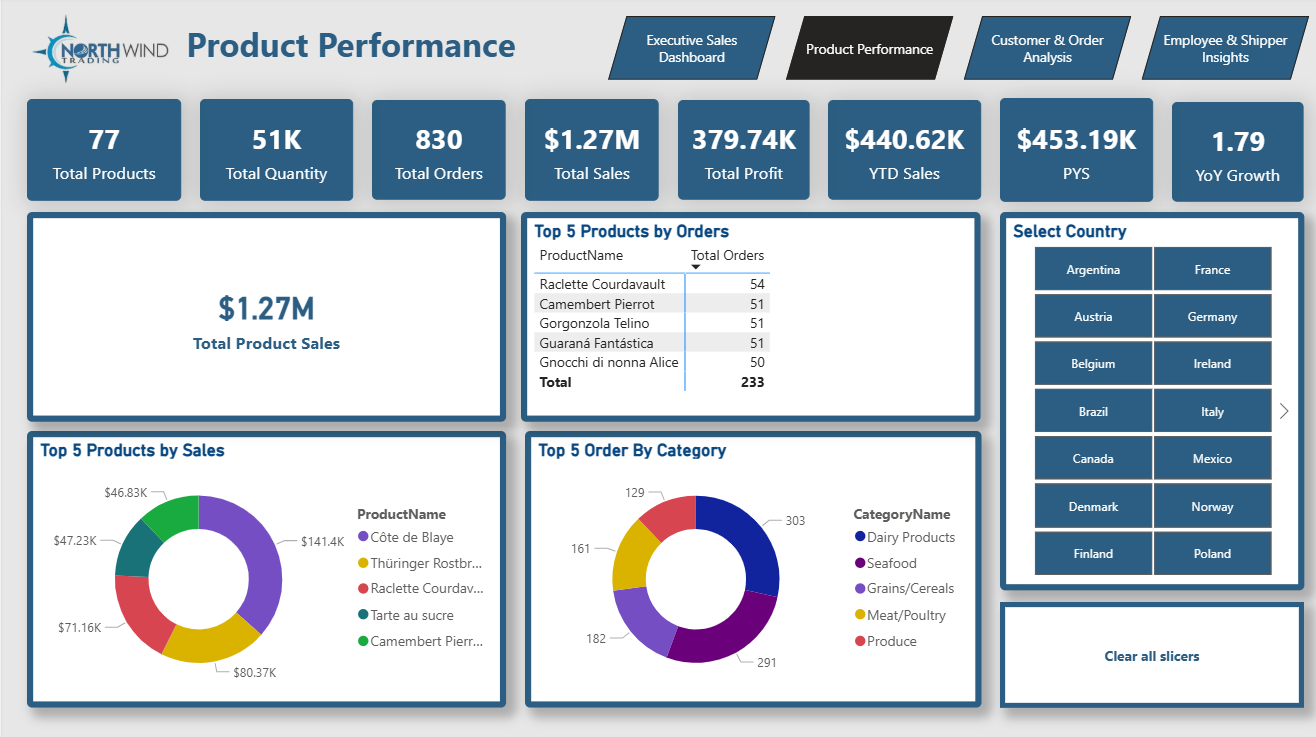

The dashboard page shown, as its layout file describes it:
{"tool":"powerbi","page":{"name":"Product Performance","canvas":[1280,720],"ordinal":1},"visuals":[{"type":"card","fields":{"Values":["Measurestbl.Total Sales"]},"box":[508.6,99.6,130.3,99.2],"z":0},{"type":"textbox","box":[174.1,18.5,404.6,62.2],"z":1000},{"type":"image","box":[14.6,0,173.1,122.6],"z":2000},{"type":"card","fields":{"Values":["Measurestbl.YTD Sales"]},"box":[803.8,100.5,148.8,97.3],"z":3000},{"type":"card","fields":{"Values":["Measurestbl.YoY Growth"]},"box":[1138,102.1,128.4,97.3],"z":4000},{"type":"card","fields":{"Values":["Measurestbl.Total Orders"]},"box":[359.9,100.5,130.3,97.3],"z":5000},{"type":"card","fields":{"Values":["Measurestbl.Previous Year Sales"]},"box":[970.9,98.6,148.8,101.2],"z":6000},{"type":"card","fields":{"Values":["Measurestbl.Total Quantity"]},"box":[192.9,99.6,148.8,99.2],"z":7000},{"type":"card","fields":{"Values":["Measurestbl.Total Products"]},"box":[24.3,99.6,150.3,99.2],"z":8000},{"type":"card","fields":{"Values":["Measurestbl.Total Profit"]},"box":[657.2,100.5,128.4,97.3],"z":9000},{"type":"pageNavigator","box":[589.4,18.5,684.7,62.2],"z":10000},{"type":"donutChart","title":"Top 5 Order By Category","fields":{"Category":["DimProudcts.CategoryName"],"Y":["Measurestbl.Total Orders"]},"box":[508.7,422.1,443.5,269.4],"z":11000},{"type":"slicer","title":"Select Country","fields":{"Values":["DimCustomer.Country"]},"box":[970.7,209.1,295.7,367.7],"z":12000},{"type":"donutChart","title":"Top 5 Products by Sales","fields":{"Category":["DimProudcts.ProductName"],"Y":["Measurestbl.Total Sales"]},"box":[24.3,422.1,465.9,269.4],"z":13000},{"type":"pivotTable","title":"Top 5 Products by Orders","fields":{"Rows":["DimProudcts.ProductName"],"Values":["Measurestbl.Total Orders"]},"box":[504.8,209.1,447.4,204.3],"z":14000},{"type":"card","fields":{"Values":["Measurestbl.Total Product Sales"]},"box":[24.3,209.1,465.9,204.3],"z":15000},{"type":"actionButton","box":[970.7,588.4,295.7,103.1],"z":16000}]}

Visuals, with their boxes in screenshot pixels (x1, y1, x2, y2), scaled from the page's 1280x720 canvas onto the 1316x737 screenshot:
card - Measurestbl.Total Sales: rect(523, 102, 657, 203)
textbox: rect(179, 19, 595, 83)
image: rect(15, 0, 193, 125)
card - Measurestbl.YTD Sales: rect(826, 103, 979, 202)
card - Measurestbl.YoY Growth: rect(1170, 105, 1302, 204)
card - Measurestbl.Total Orders: rect(370, 103, 504, 202)
card - Measurestbl.Previous Year Sales: rect(998, 101, 1151, 205)
card - Measurestbl.Total Quantity: rect(198, 102, 351, 203)
card - Measurestbl.Total Products: rect(25, 102, 180, 203)
card - Measurestbl.Total Profit: rect(676, 103, 808, 202)
pageNavigator: rect(606, 19, 1310, 83)
"Top 5 Order By Category" donutChart: rect(523, 432, 979, 708)
"Select Country" slicer: rect(998, 214, 1302, 590)
"Top 5 Products by Sales" donutChart: rect(25, 432, 504, 708)
"Top 5 Products by Orders" pivotTable: rect(519, 214, 979, 423)
card - Measurestbl.Total Product Sales: rect(25, 214, 504, 423)
actionButton: rect(998, 602, 1302, 708)
